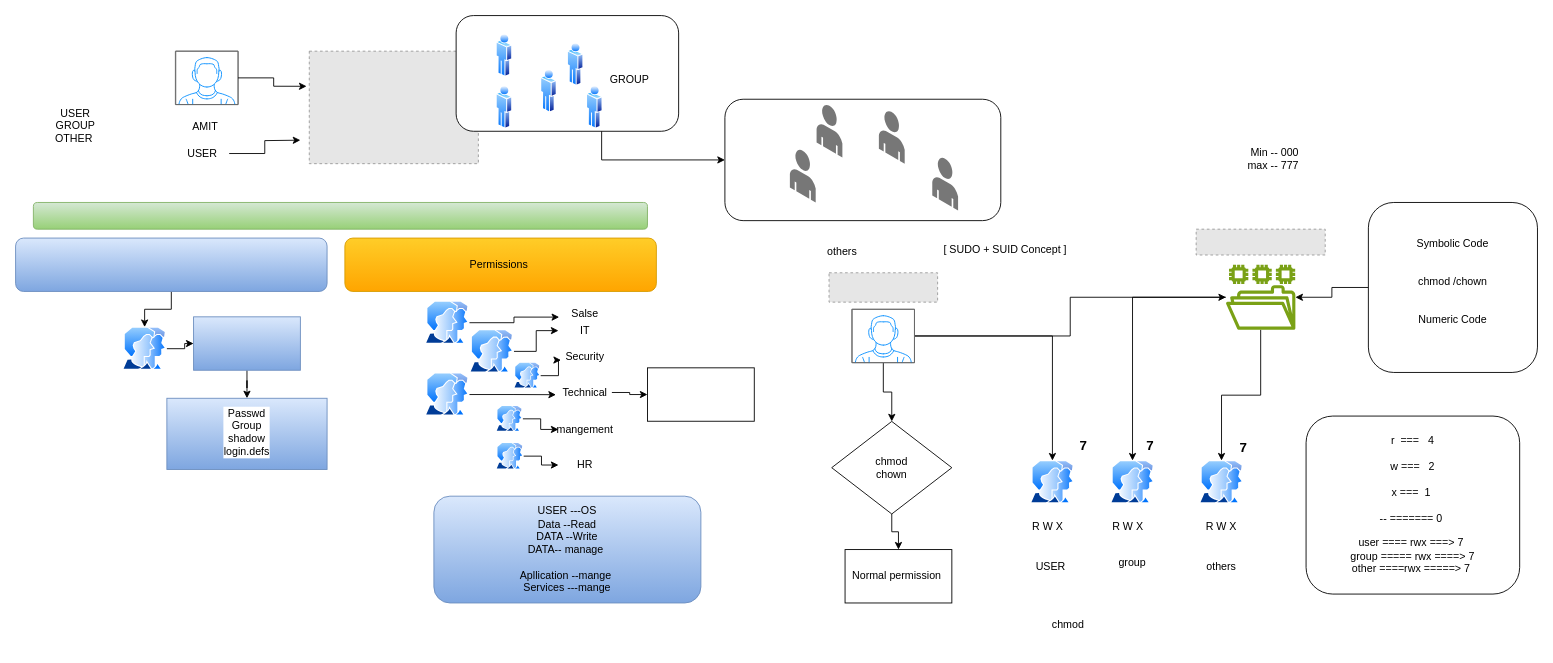
Some shapes in this 1553 by 663 pixel diagram are drawn without their labels. Grey dashed boxes stand in for pictures. Each missing label, with the centre of its shape:
"LINUX ADMIN" goes at point 339,215.
"POC/ MOP" goes at point 700,394.
"USER Creation" goes at point 246,343.
"USER MANAGEMENT" goes at point 171,264.
